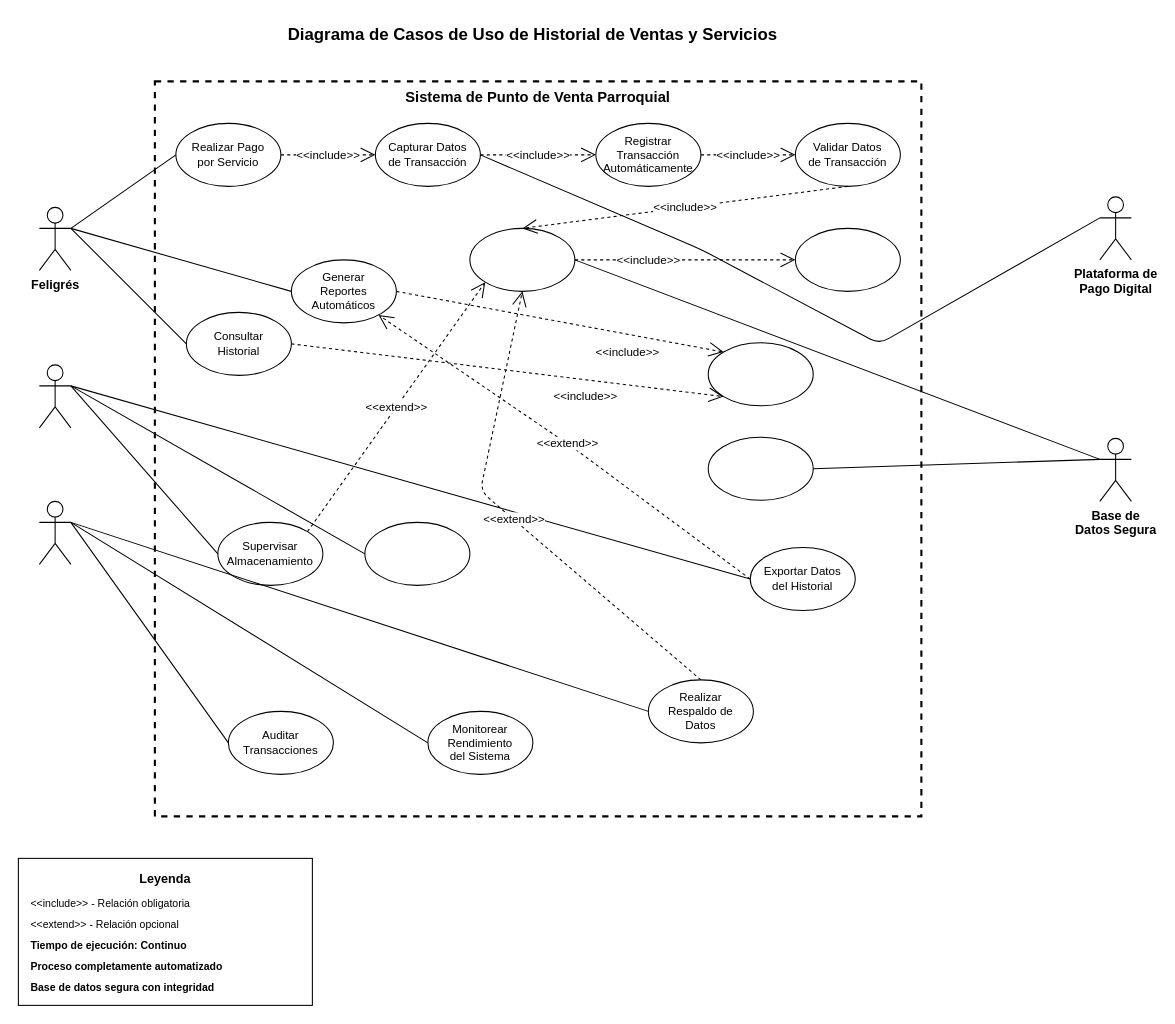
Image size: 1175x1024. Some labels were removed from this diagram. Each missing label, with the centre of its shape:
"Aplicar Filtros de Búsqueda" belongs at (x=760, y=374).
"Gestionar Accesos y Permisos" belongs at (x=417, y=553).
"Indexar y Categorizar Datos" belongs at (x=847, y=259).
"Mantener Integridad de Datos" belongs at (x=760, y=468).
"Organizar Datos en Base de Datos Segura" belongs at (x=522, y=259).
"Secretaría Parroquial" belongs at (x=54, y=396).
"Sistema de Gestión" belongs at (x=54, y=532).
